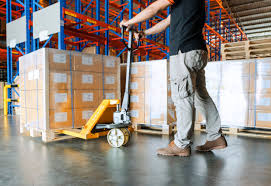Pallet Jack: (20, 24, 143, 151)
